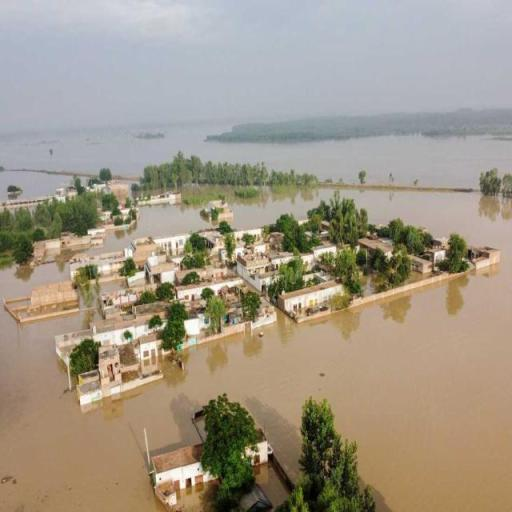flood: (0, 190, 512, 512), (0, 126, 512, 187), (89, 205, 208, 255), (208, 188, 334, 230), (1, 172, 71, 200)
house: (148, 444, 213, 492), (280, 279, 342, 321), (155, 228, 190, 260), (243, 438, 270, 474), (236, 252, 268, 281)
